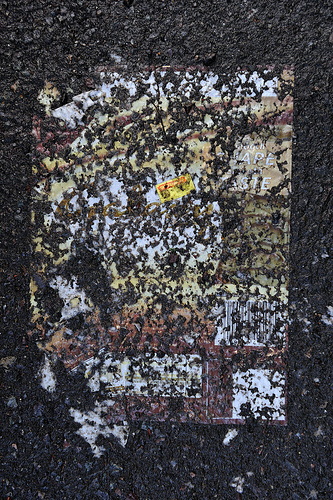litter: (37, 66, 289, 451)
